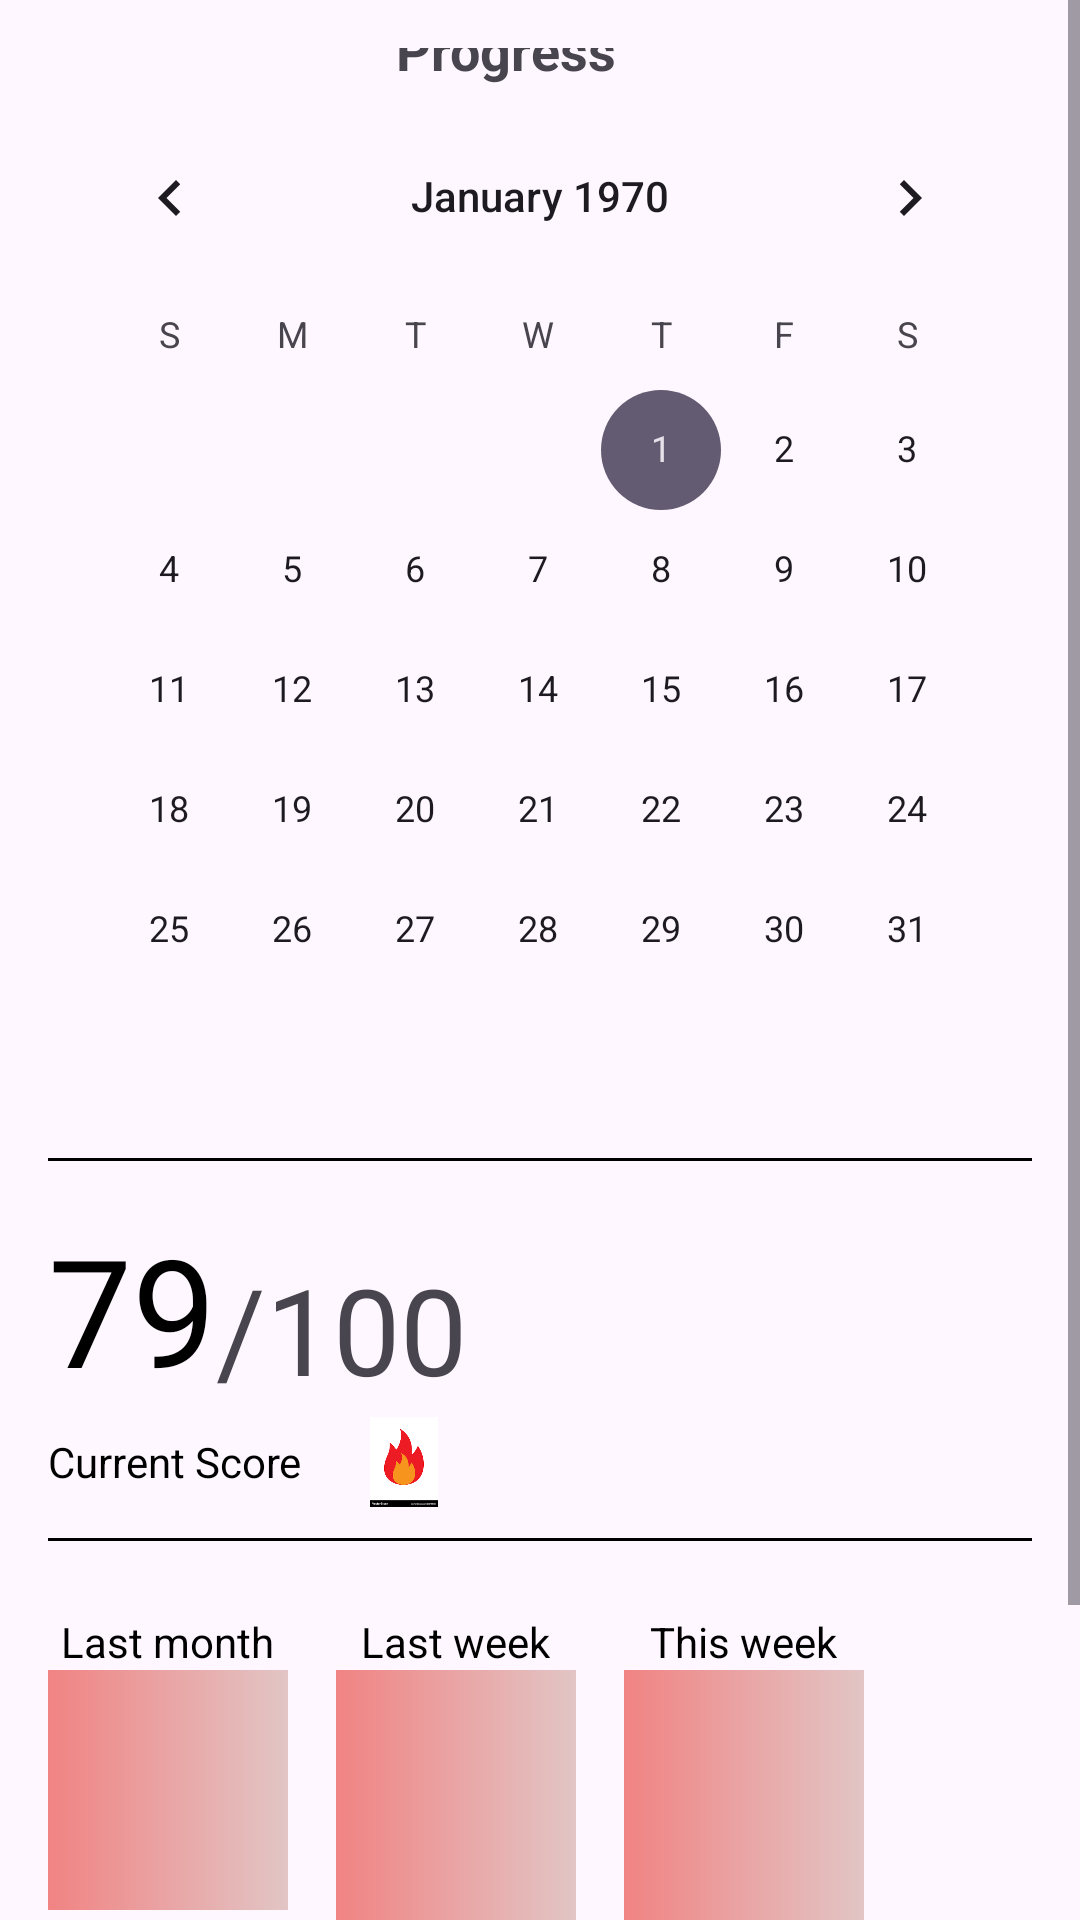

Point at icon controls on the screen. Image size 1080×1920, points as (x=x, y=y).
firry: (x=404, y=1468)
